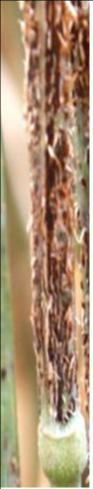Wheat: (30, 24, 82, 388)
